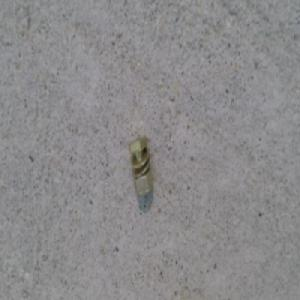BoltNutSet: (128, 136, 154, 198)
